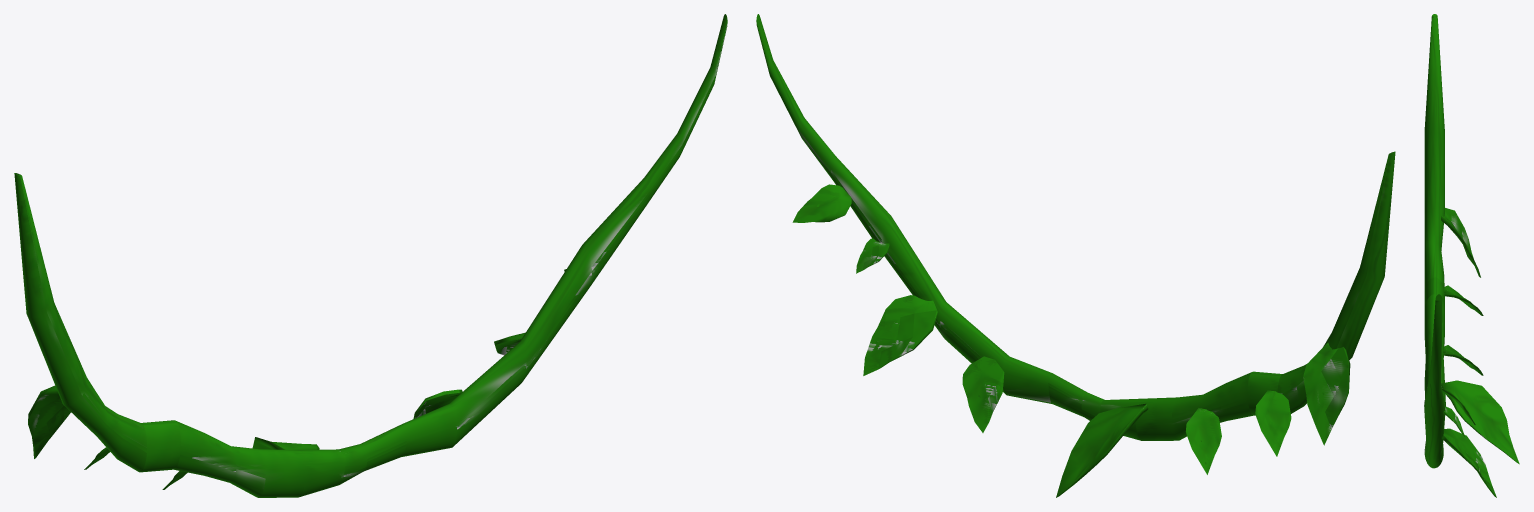
Rendered from vine.fbx.
3 views of the same model, side by side, from view 1: azimuth 30°, elevation 25°; view 2: azimuth 150°, elevation 25°; view 3: azimuth 270°, elevation 25° (orthographic). The views are drawn at different scales.
Parts seen in each view (by area): view 1: Cylinder; view 2: Cylinder; view 3: Cylinder.
Part boxes in pixels (x1=…): Cylinder: x1=14, y1=14, x2=727, y2=497; Cylinder: x1=756, y1=14, x2=1395, y2=497; Cylinder: x1=1424, y1=14, x2=1519, y2=497.
Size of the model in its own units: 2898 by 1659 by 438.
Materials: 1 (1 with a texture image).
